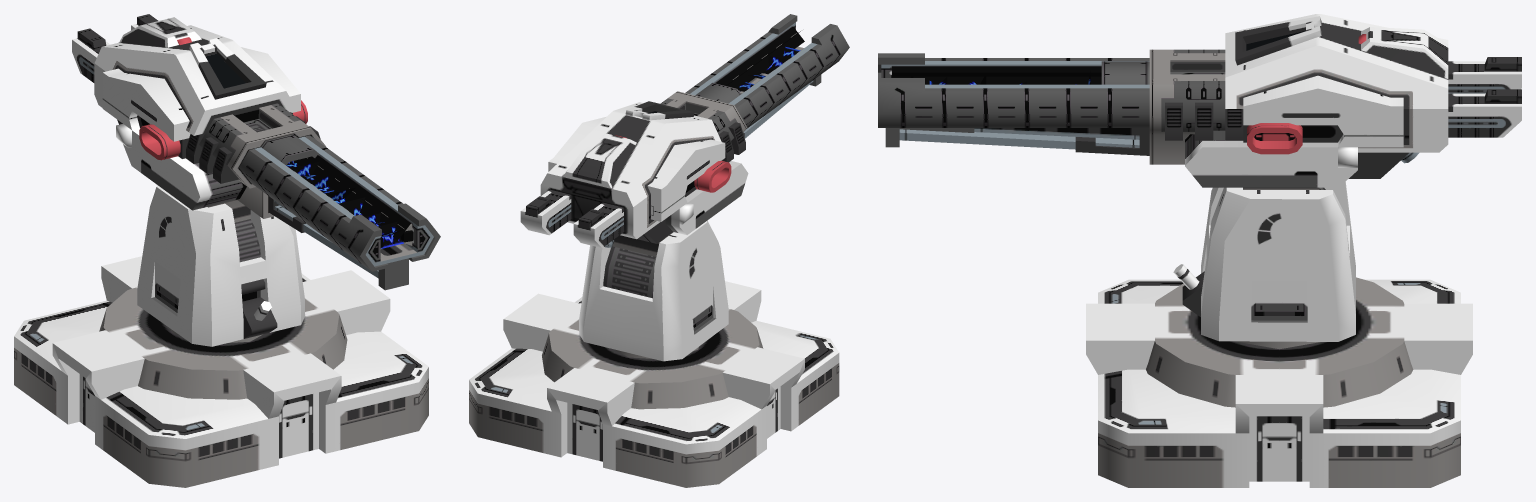
Rendered from em-rail-ejector.glb.
3 views of the same model, side by side, from view 1: azimuth 30°, elevation 25°; view 2: azimuth 150°, elevation 25°; view 3: azimuth 270°, elevation 25° (orthographic). The views are drawn at different scales.
Parts seen in each view (by area): view 1: em-rail-ejector-1, em-rail-ejector-4, em-rail-ejector-3; view 2: em-rail-ejector-1, em-rail-ejector-4, em-rail-ejector-3; view 3: em-rail-ejector-1, em-rail-ejector-4, em-rail-ejector-3.
Boxes of the visible parts, x1,y1,x2,y2 form: em-rail-ejector-1: (14, 14, 433, 487); em-rail-ejector-4: (239, 135, 440, 290); em-rail-ejector-3: (139, 100, 325, 218); em-rail-ejector-1: (469, 22, 839, 487); em-rail-ejector-4: (685, 14, 849, 138); em-rail-ejector-3: (660, 82, 747, 192); em-rail-ejector-1: (881, 14, 1521, 487); em-rail-ejector-4: (878, 53, 1149, 155); em-rail-ejector-3: (1101, 49, 1302, 164).
Size of the model in its own units: 6.4 by 7.08 by 10.65.
2 materials, 2 textured.
